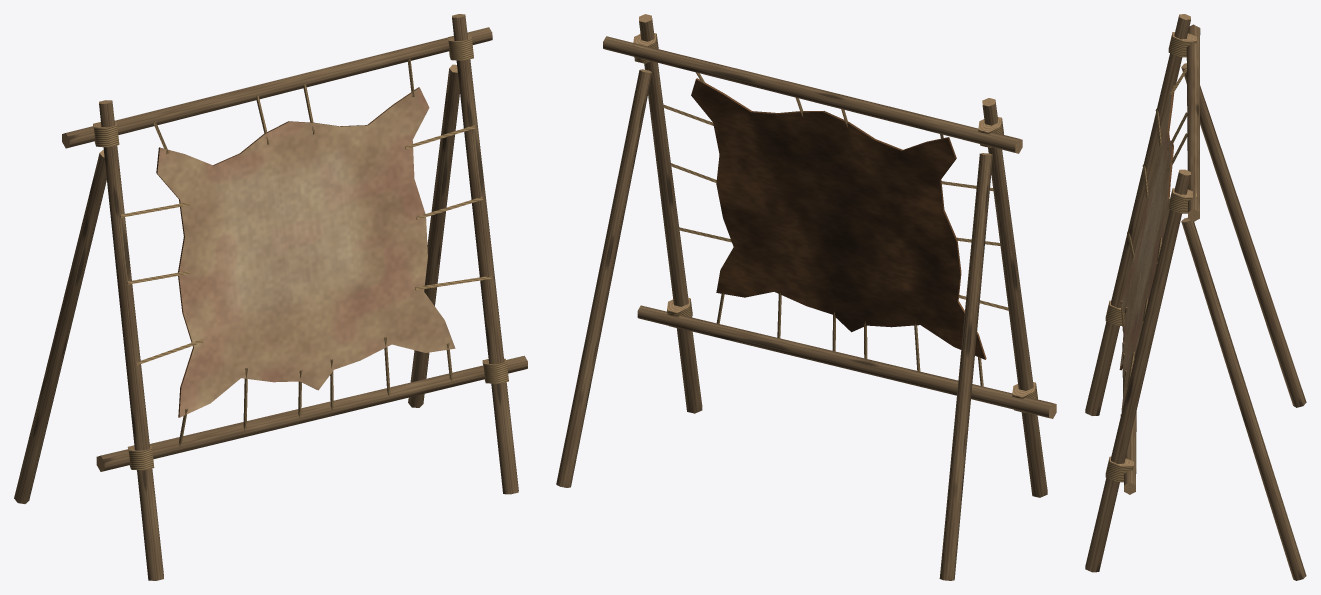
The model's file is hide_frame.glb.
3 views of the same model, side by side, from view 1: azimuth 30°, elevation 25°; view 2: azimuth 150°, elevation 25°; view 3: azimuth 270°, elevation 25° (orthographic). The views are drawn at different scales.
Parts seen in each view (by area): view 1: HIDE_FRAME; view 2: HIDE_FRAME; view 3: HIDE_FRAME.
Part boxes in pixels (x1,y1,x2,y2): HIDE_FRAME: [14, 14, 527, 580]; HIDE_FRAME: [556, 14, 1056, 580]; HIDE_FRAME: [1085, 14, 1306, 580].
Size of the model in its own units: 1.72 by 1.72 by 0.8615.
Materials: 1 (1 with a texture image).
